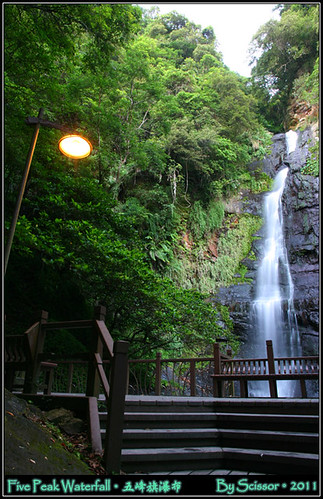wufengciWaterfall: (194, 119, 319, 360)
